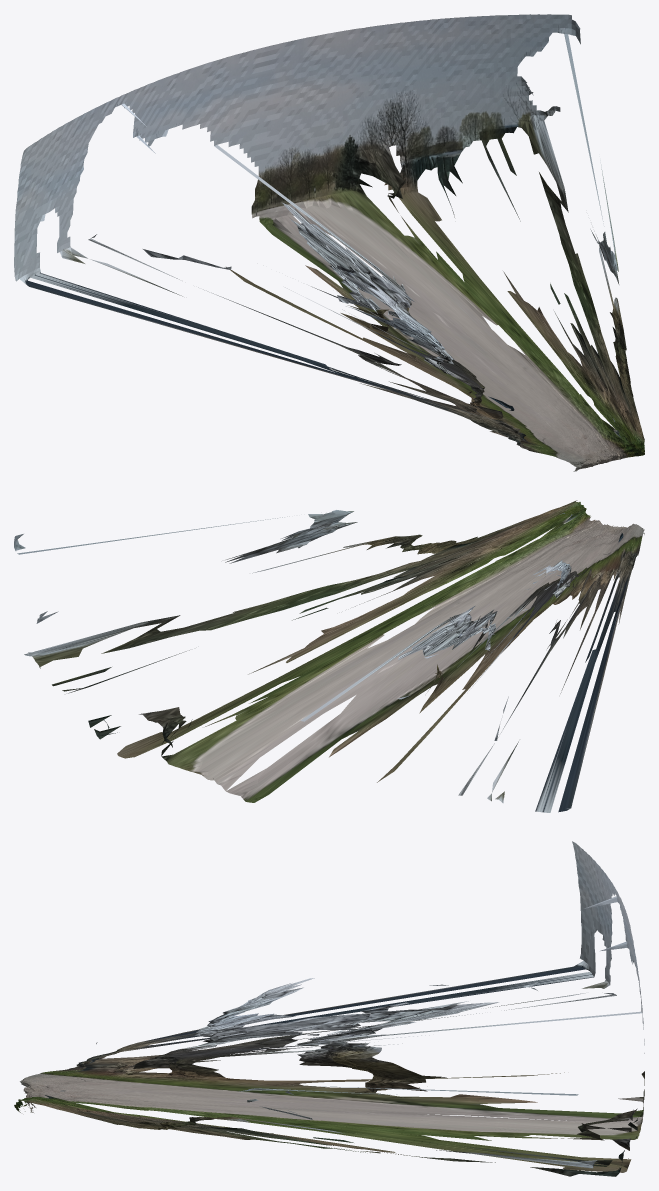
The picture shows the model from 3 angles, top to bottom: view 1: azimuth 30°, elevation 25°; view 2: azimuth 150°, elevation 25°; view 3: azimuth 270°, elevation 25°; orthographic projection. The views are drawn at different scales.
Parts seen in each view (by area): view 1: defaultobject; view 2: defaultobject; view 3: defaultobject.
Boxes of the visible parts, box(x1,y1,x2,y2) form: defaultobject: box(14, 14, 644, 471); defaultobject: box(14, 500, 644, 812); defaultobject: box(14, 841, 644, 1176).
Size of the model in its own units: 40.64 by 12.85 by 44.73.
Materials: 1 (1 with a texture image).
